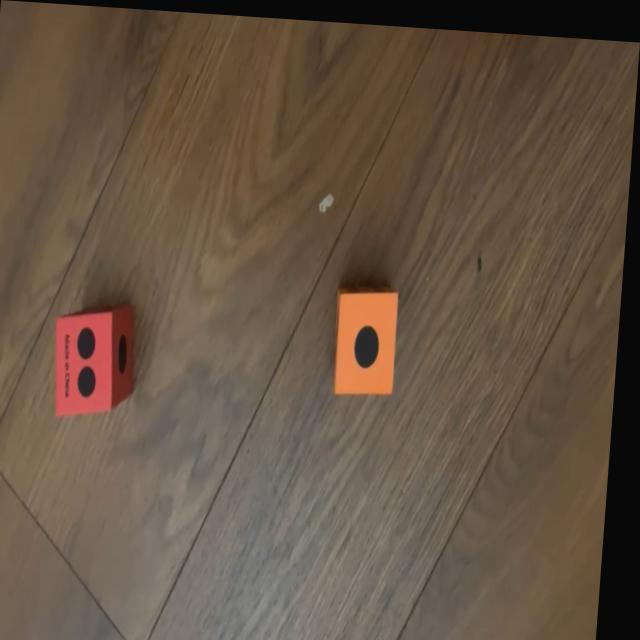red_block: (53, 300, 141, 422)
